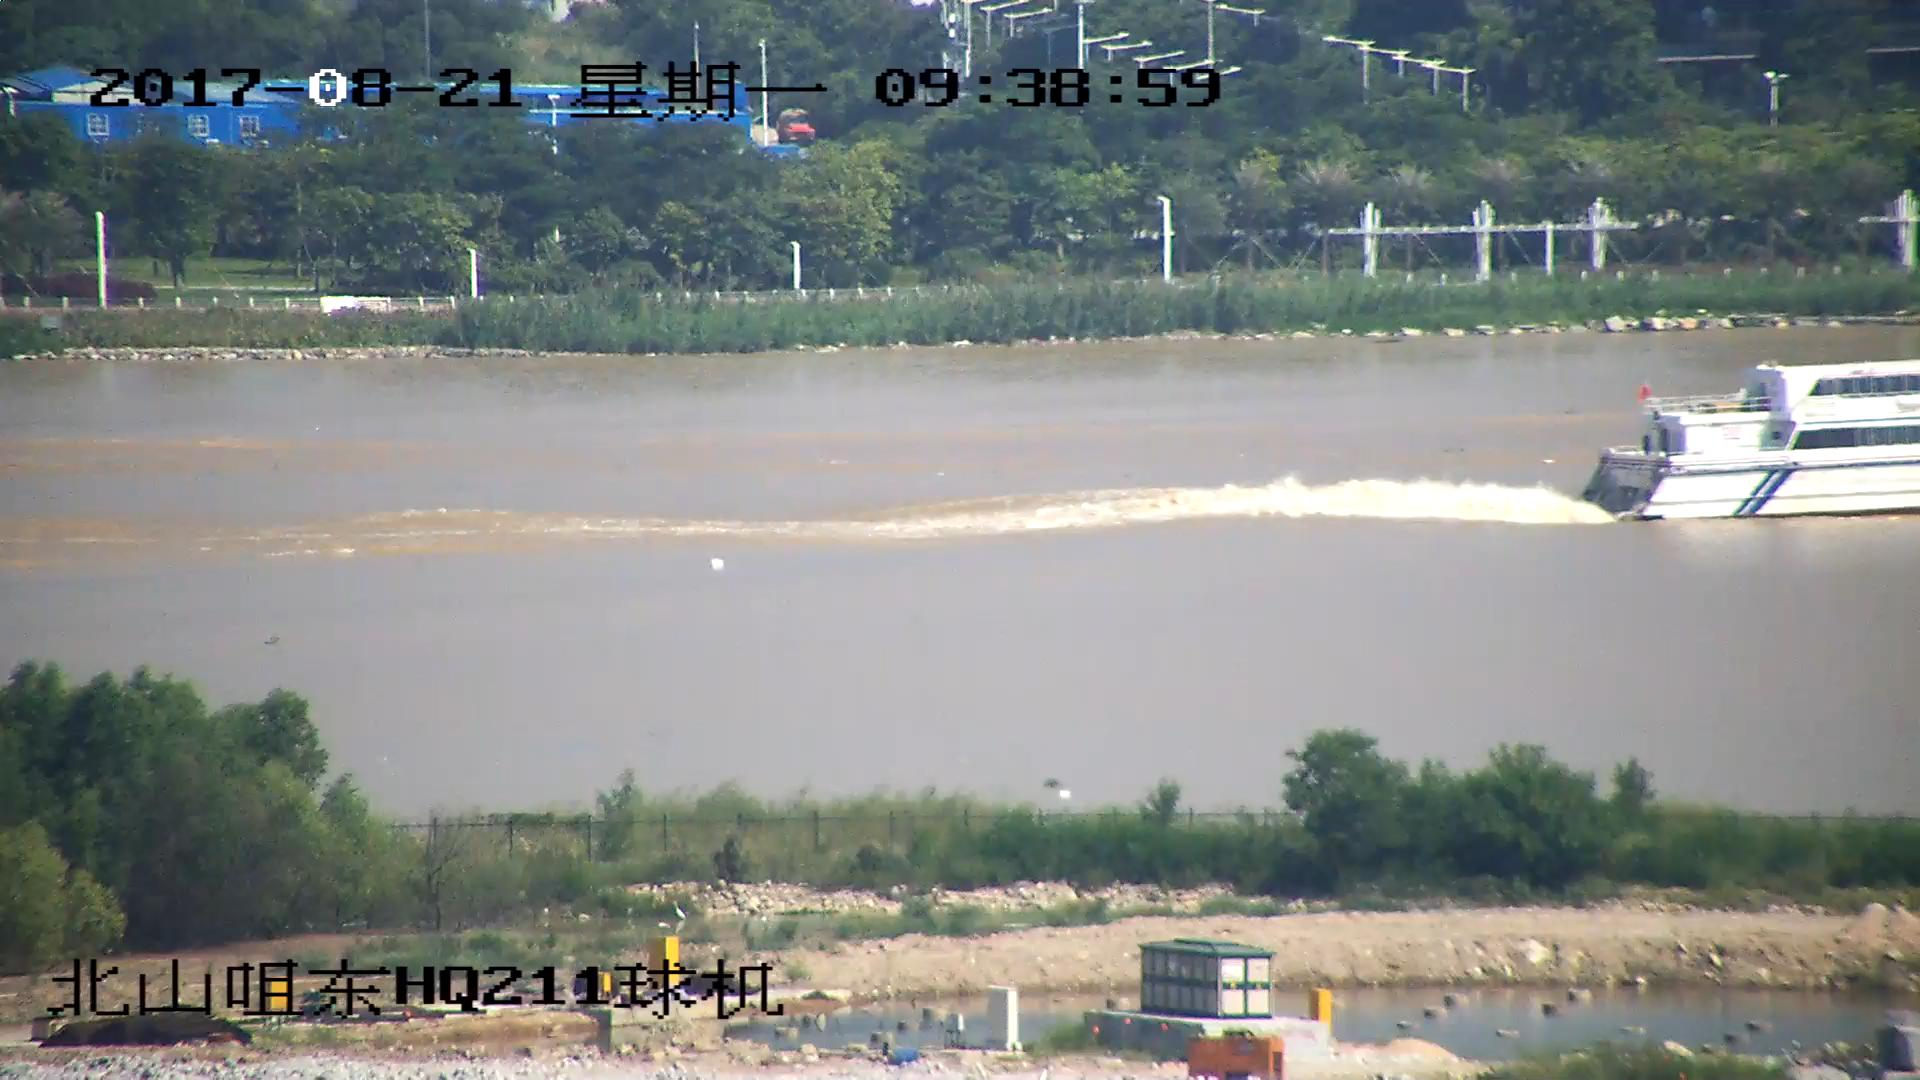passenger ship: (1592, 357, 1920, 520)
